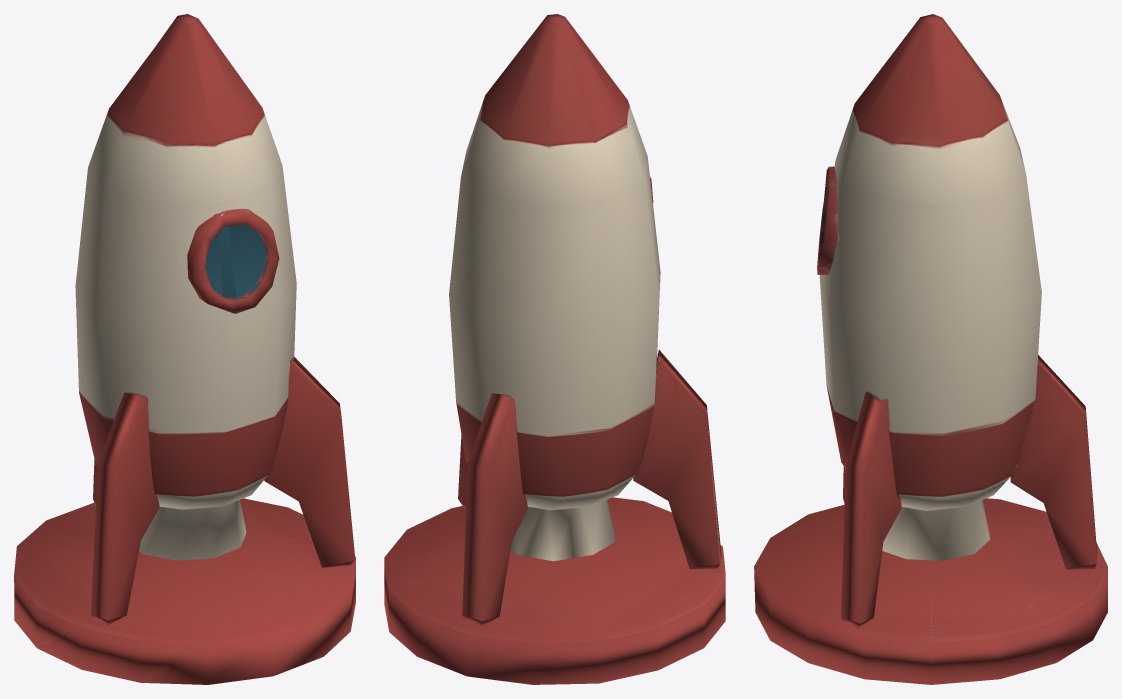
File: toy_rocket.glb
3 renders of one model, left to right at view 1: azimuth 30°, elevation 25°; view 2: azimuth 150°, elevation 25°; view 3: azimuth 270°, elevation 25°, orthographic.
Size of the model in its own units: 0.4985 by 0.9512 by 0.5132.
Materials: 1 (1 with a texture image).
